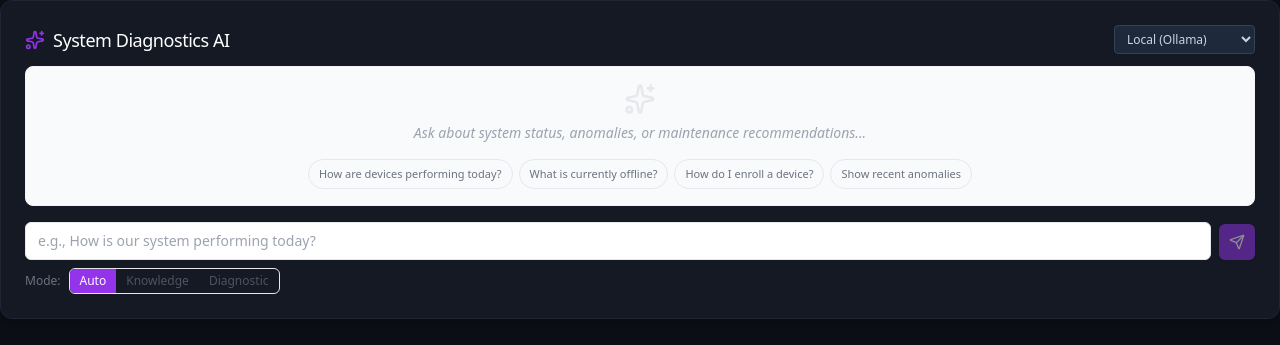
Scenario: AskAIWidget mode selector (docs/ai-query-routing.md §6.1) › shows a Knowledge chip (not the gate UI) for documentation answers
In the field: (618, 241) x1=25 y1=222 x2=1211 y2=260, type "How do I enroll a device?"
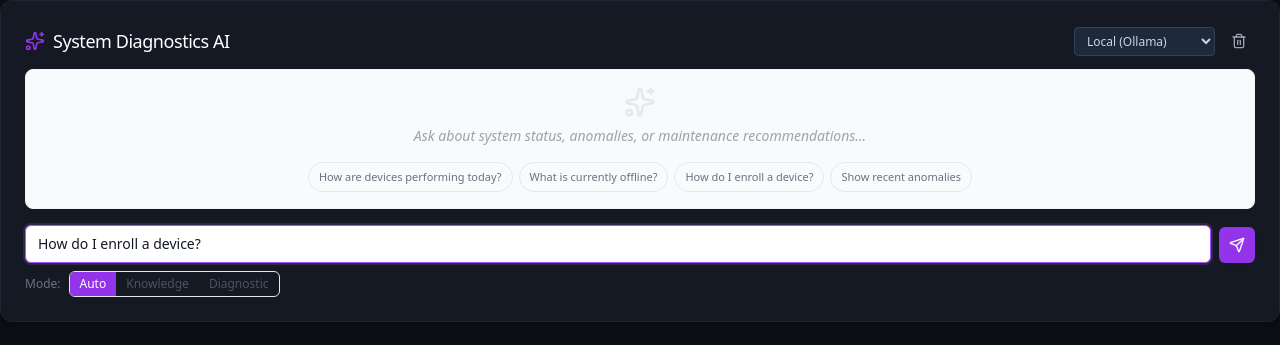
Click the button named "Send": click(1237, 245) x1=1219 y1=227 x2=1255 y2=263
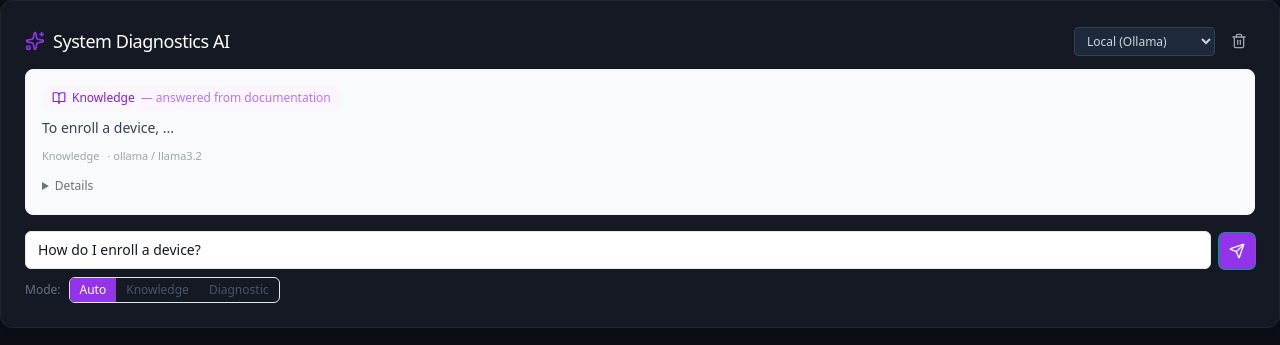
Expected: the text "— answered from documentation" is shown, x1=141 y1=90 x2=331 y2=106
